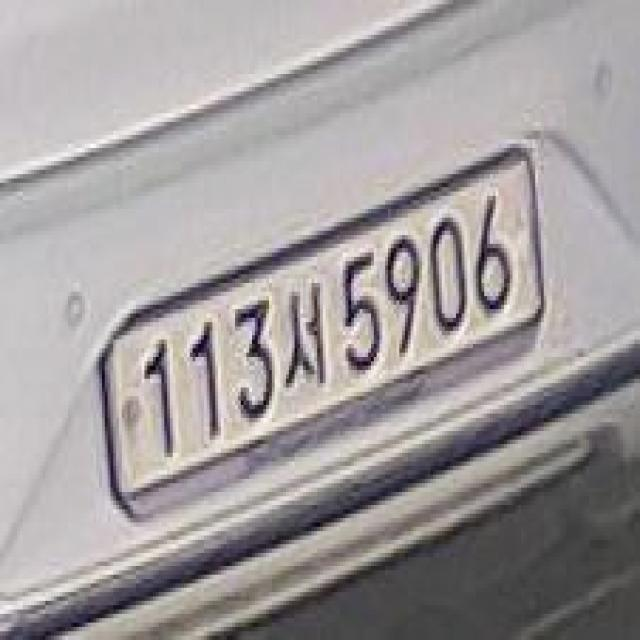illegal_plate: (95, 150, 549, 525)
